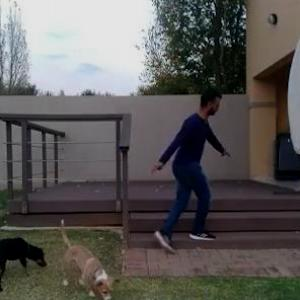land: (113, 79, 237, 260)
